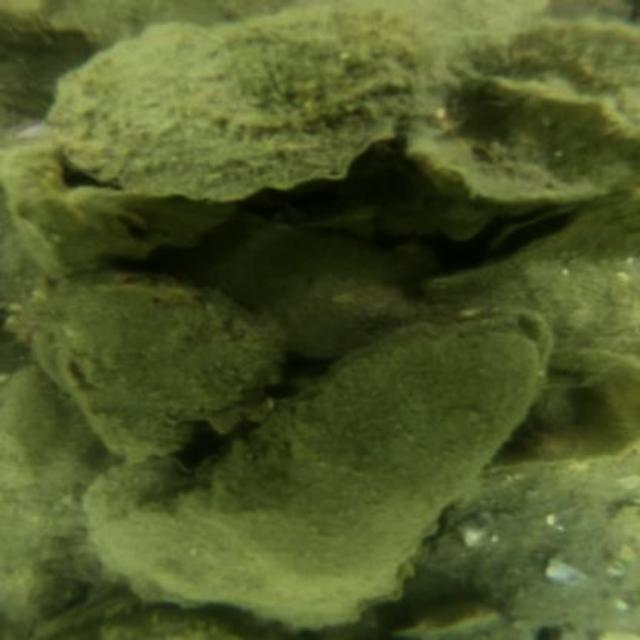Oyster-Closed: (164, 313, 560, 611), (40, 8, 443, 209), (80, 454, 372, 638), (25, 272, 286, 460), (396, 60, 638, 221), (432, 190, 638, 374), (220, 228, 449, 355), (482, 341, 638, 470)
Oyster-Open: (0, 113, 492, 283), (478, 208, 584, 261)
